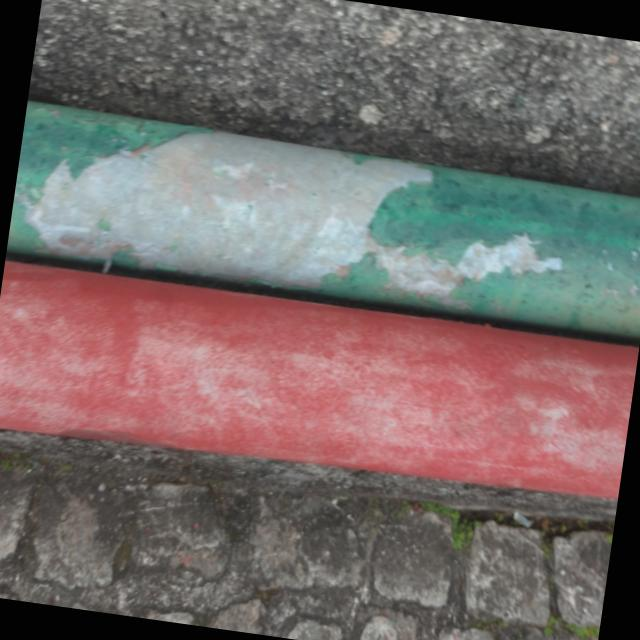gas: (0, 258, 639, 516), (6, 108, 640, 343)
